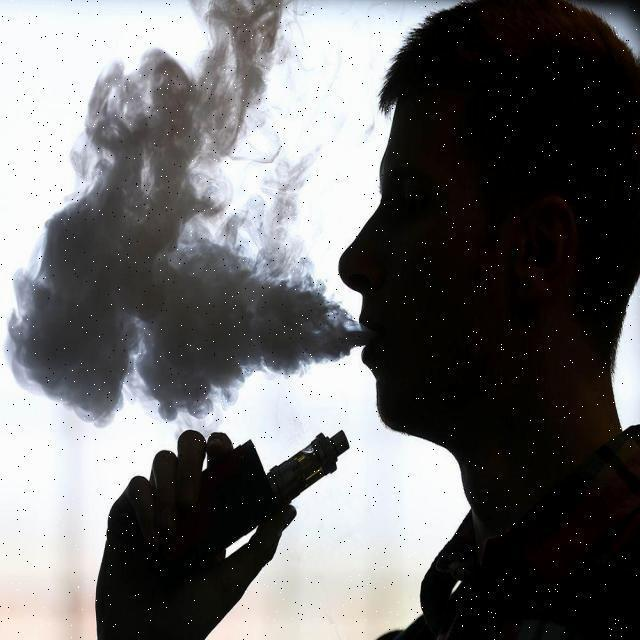smoke: (21, 75, 333, 413)
